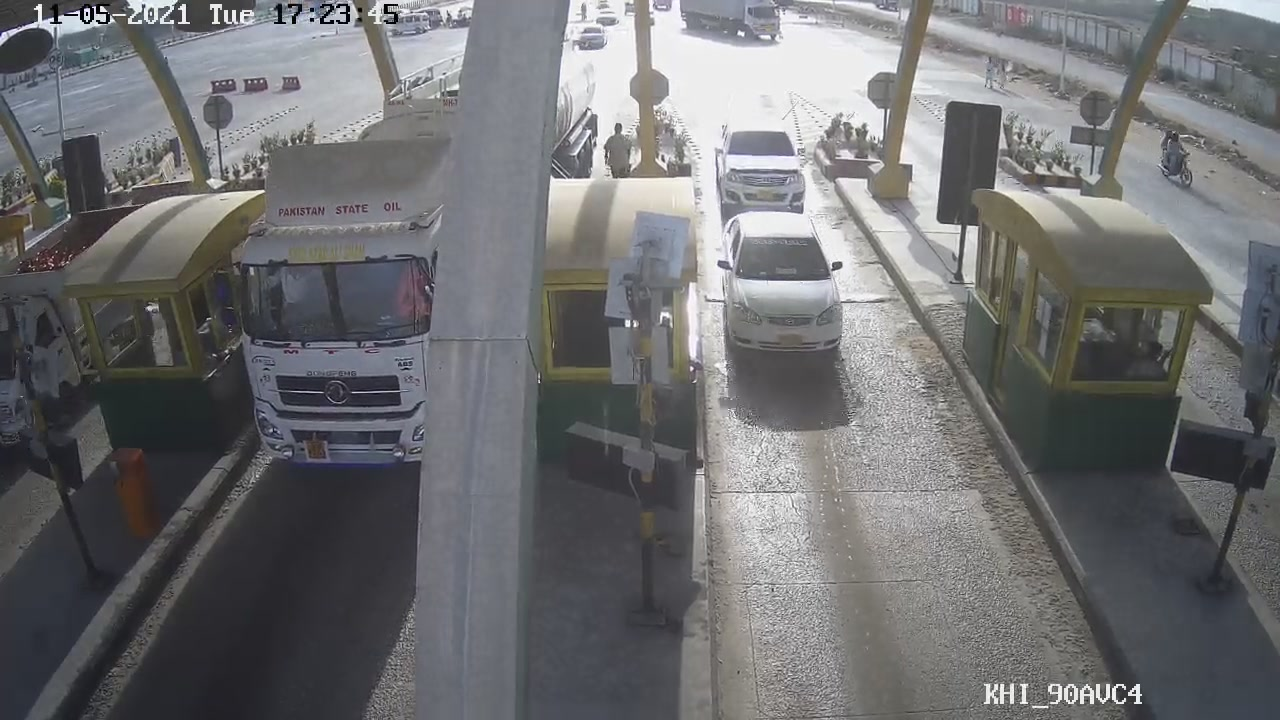F1: (709, 208, 868, 362)
